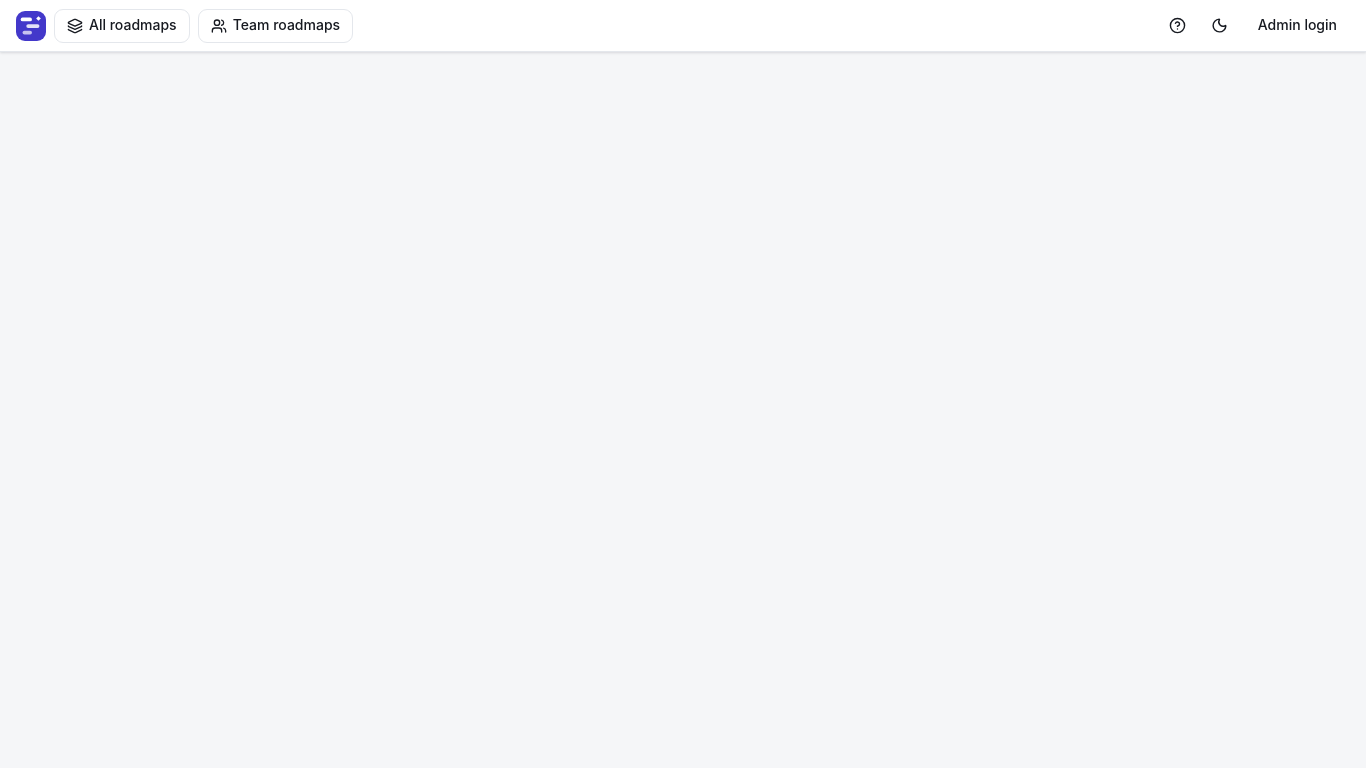
Test case: REQ_AUTH_005/006 the account control › REQ_AUTH_005 anonymous: a ghost button "Admin login" opens the login dialog
Click the button with test id "login-button".
click(1297, 26)  # box [1245,8,1350,42]
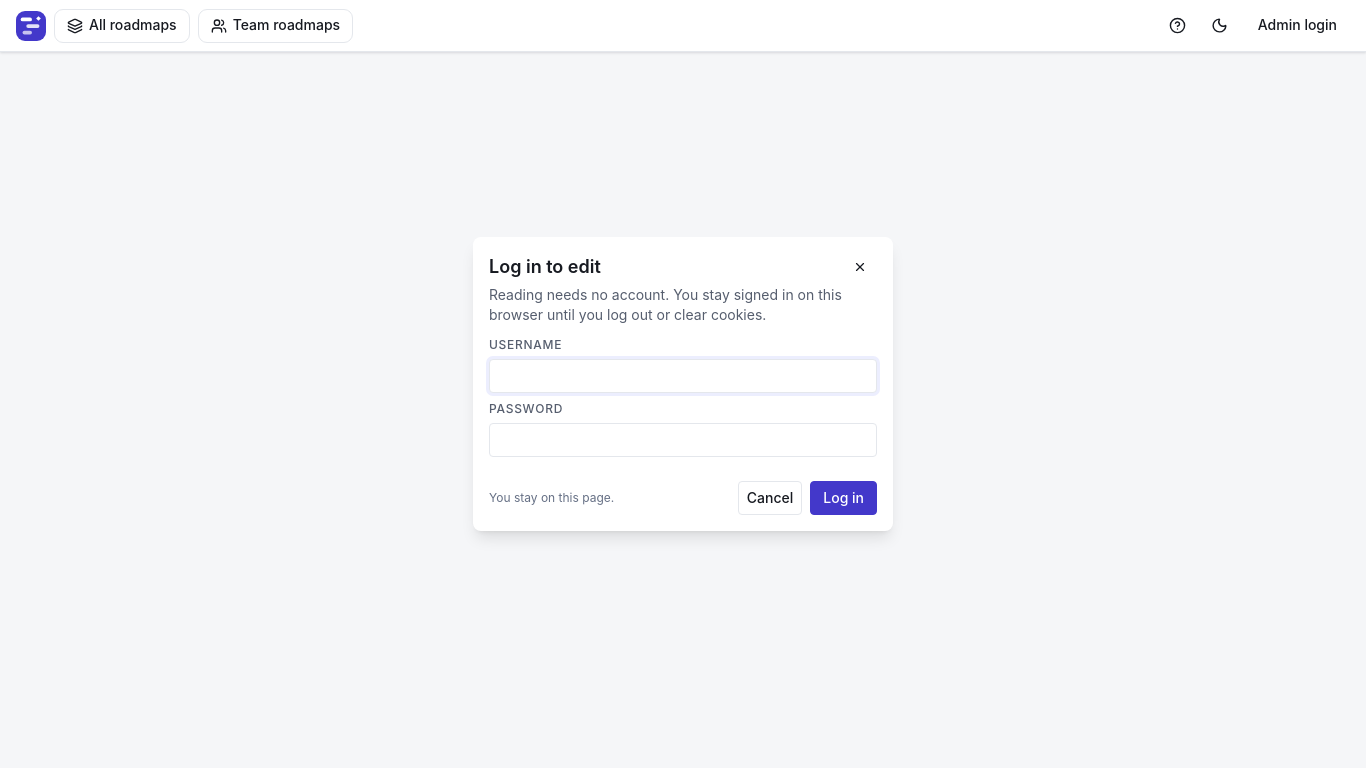
Expected: the dialog "Log in" is shown, [473,237,893,531]
